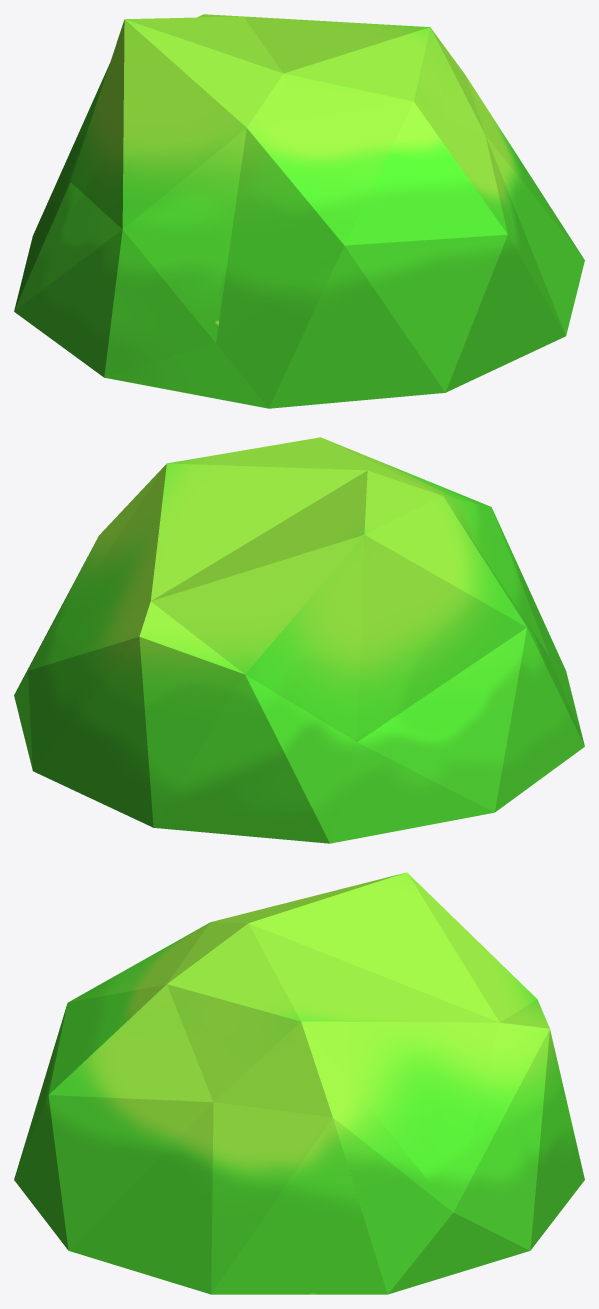
The model's file is bush.obj.
3 views of the same model, one above another, from view 1: azimuth 30°, elevation 25°; view 2: azimuth 150°, elevation 25°; view 3: azimuth 270°, elevation 25° (orthographic). The views are drawn at different scales.
Visible parts, largest first — view 1: Cube.001; view 2: Cube.001; view 3: Cube.001.
Part boxes in pixels (x1,y1,x2,y2): Cube.001: (14,14,584,408); Cube.001: (14,437,584,843); Cube.001: (14,872,584,1294).
Size of the model in its own units: 0.5706 by 0.2902 by 0.6.
